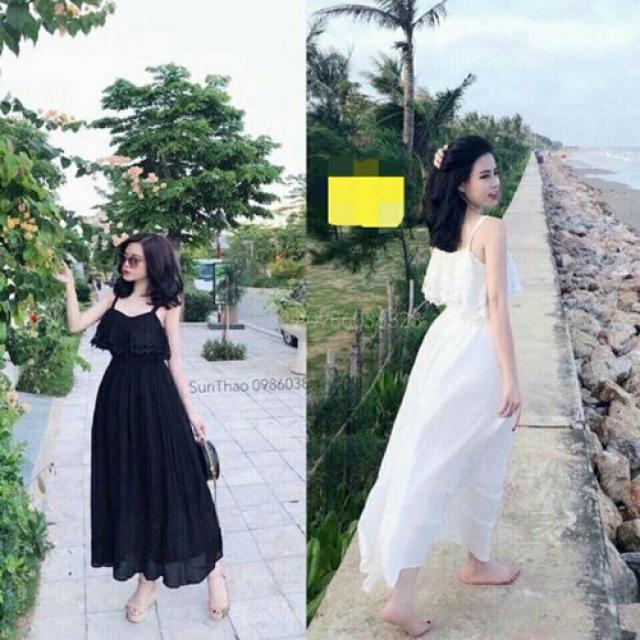clothes: (384, 205, 522, 580), (79, 293, 233, 579)
